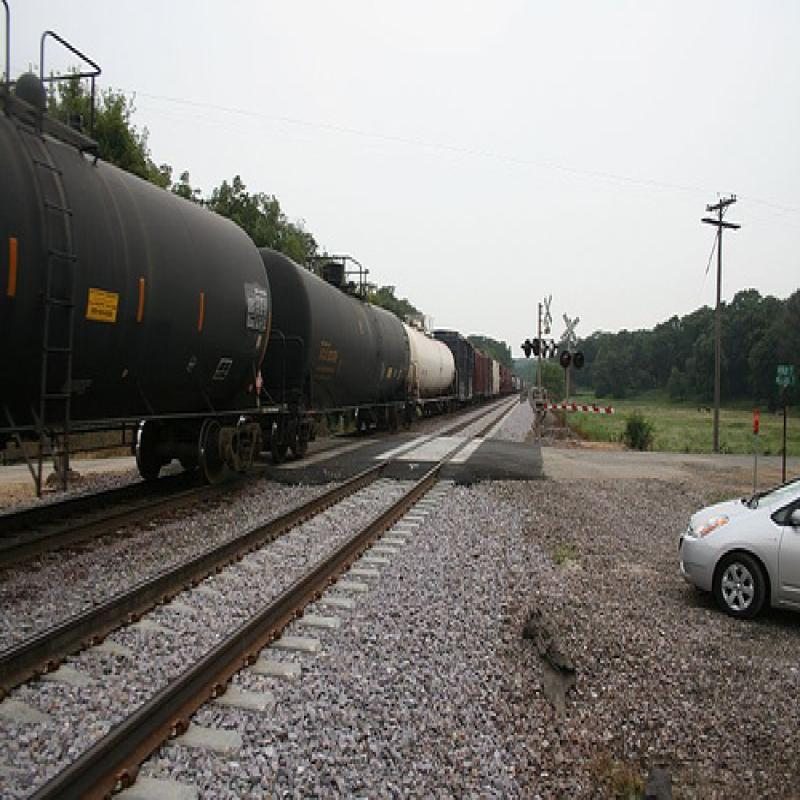train: (3, 4, 524, 503)
